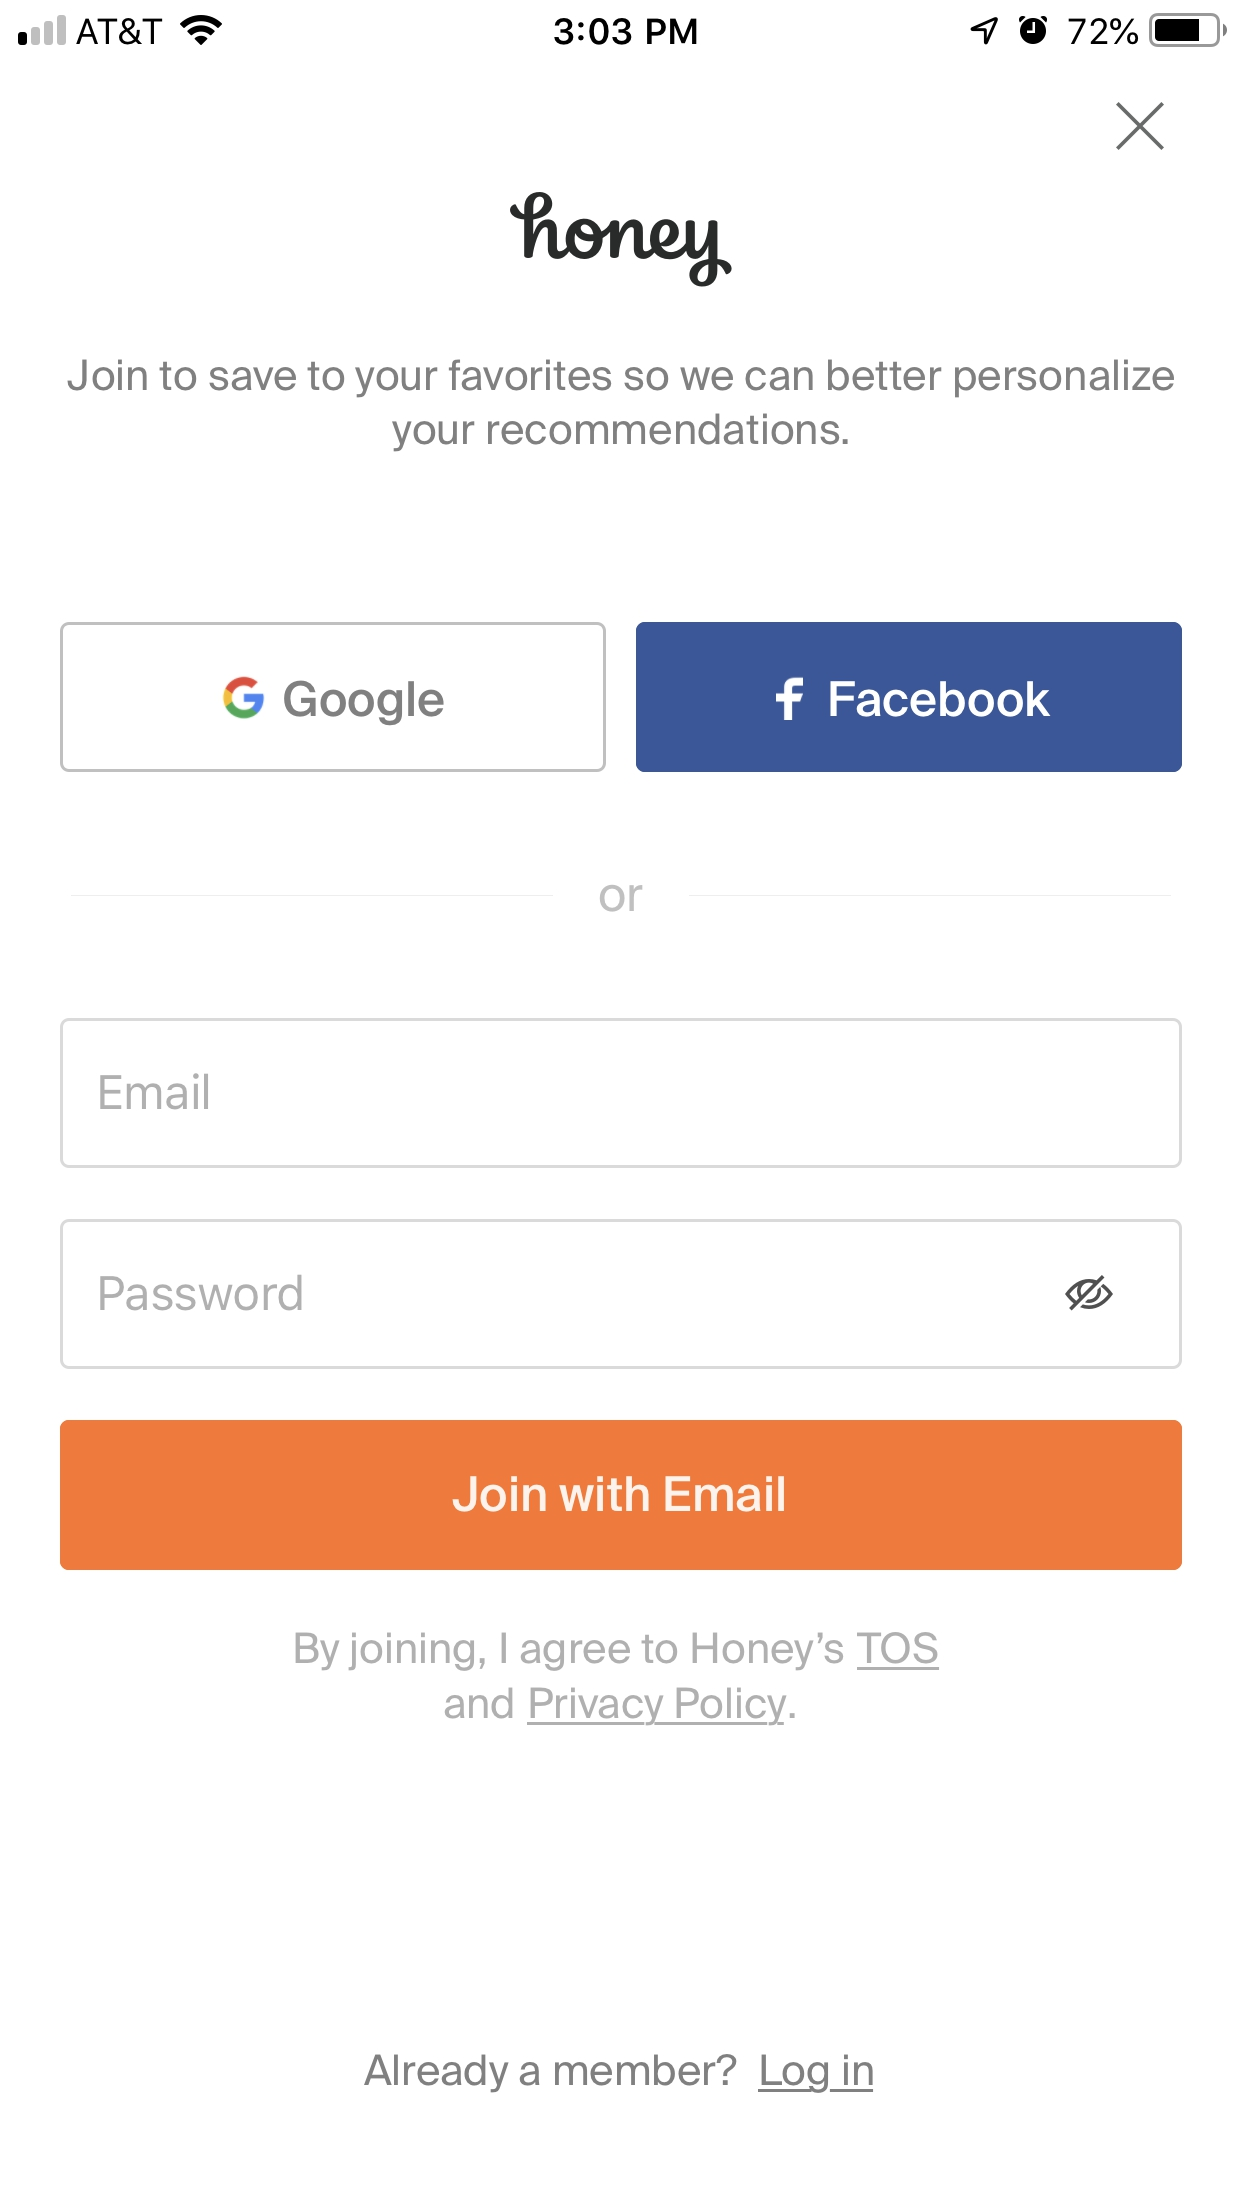EditText: (61, 1018, 1181, 1169), (61, 1219, 1181, 1369)
Icon: (1116, 102, 1165, 152), (1065, 1275, 1115, 1312)
Image: (510, 193, 732, 290)
Text: (67, 359, 1174, 453), (296, 1632, 940, 1727), (365, 2053, 875, 2094), (102, 1274, 303, 1312), (100, 1074, 209, 1112), (601, 886, 645, 913)
TextButton: (61, 1419, 1181, 1570), (61, 623, 607, 773), (635, 623, 1181, 773)
UpperTaskBar: (2, 2, 1242, 49)
